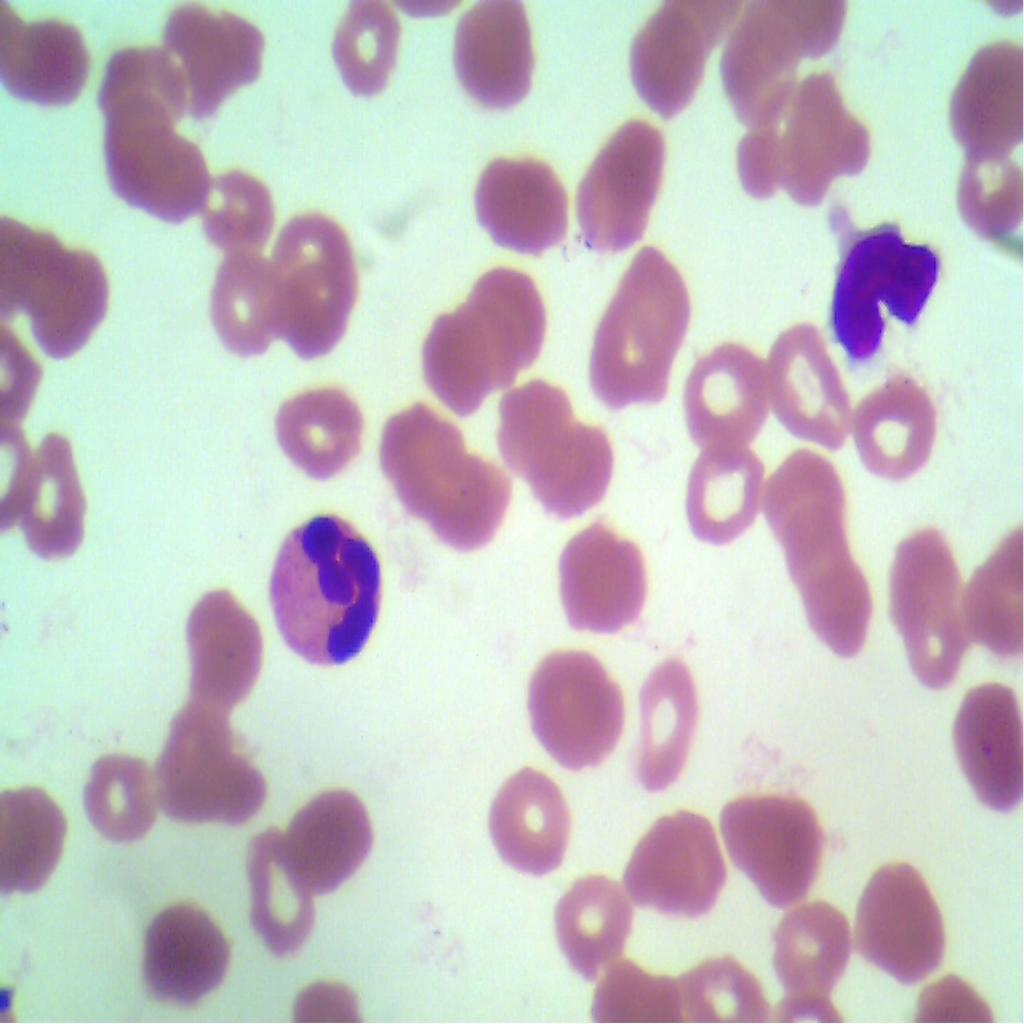Eritrosit: (706, 771, 834, 914), (766, 74, 880, 204), (574, 117, 673, 266), (270, 211, 364, 362), (846, 848, 950, 980), (884, 528, 970, 687), (847, 355, 943, 495), (622, 801, 725, 930), (162, 0, 276, 114), (526, 641, 626, 770), (320, 0, 434, 112), (548, 521, 657, 638), (473, 144, 574, 268), (470, 757, 572, 879), (708, 1, 800, 134), (768, 319, 858, 454), (175, 588, 272, 711), (448, 260, 553, 372), (370, 387, 470, 504), (238, 821, 323, 957), (267, 374, 368, 488), (440, 0, 540, 115), (606, 234, 698, 358), (283, 784, 377, 905), (627, 651, 700, 798), (940, 35, 1023, 159), (683, 330, 763, 458), (545, 862, 635, 975), (35, 241, 112, 371), (587, 292, 663, 422), (415, 467, 519, 561), (15, 431, 90, 561), (140, 895, 228, 1005), (943, 134, 1023, 255), (152, 704, 230, 826), (420, 301, 502, 417), (5, 11, 97, 114), (0, 781, 78, 900), (70, 744, 159, 847), (767, 891, 852, 998), (93, 47, 195, 135), (542, 418, 622, 527), (802, 558, 884, 663), (952, 688, 1023, 807), (959, 528, 1023, 658), (95, 94, 173, 200), (762, 431, 834, 545), (624, 11, 706, 111), (190, 171, 280, 261), (780, 491, 855, 598), (210, 247, 285, 352), (682, 442, 754, 547), (190, 743, 268, 832), (492, 379, 570, 468), (0, 217, 70, 313), (139, 141, 217, 227), (722, 122, 786, 204)
Limfosit: (822, 212, 946, 381)
Neutrofil: (246, 509, 392, 672)
